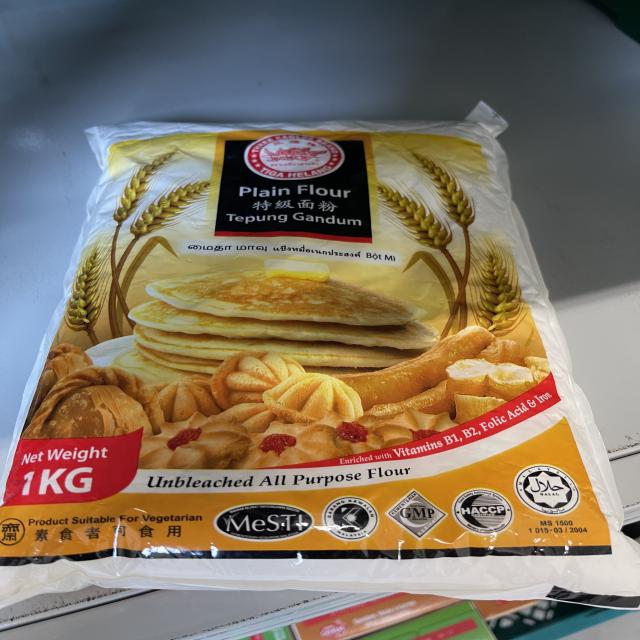object_name: (6, 128, 610, 593)
